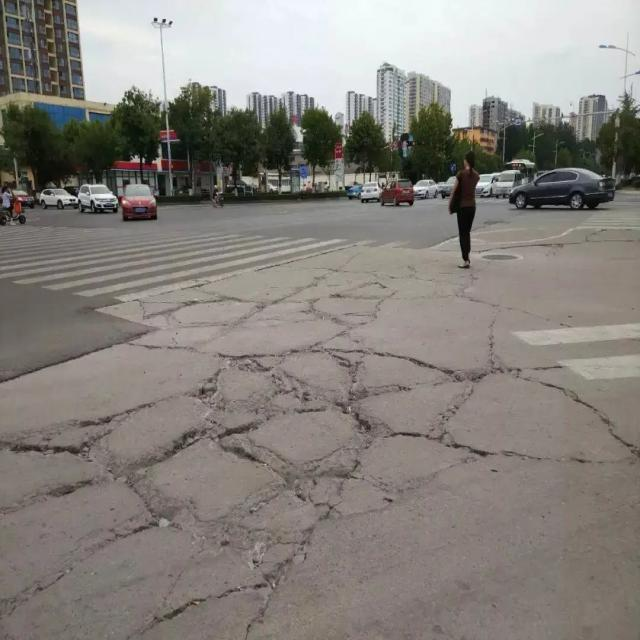pothole: (14, 346, 526, 619), (111, 259, 438, 337)
